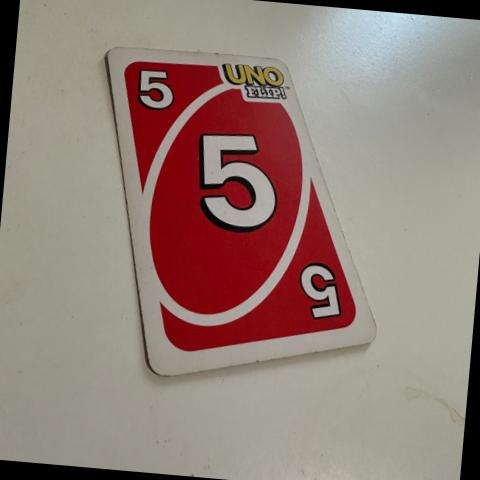lred-5: (125, 52, 199, 126)
